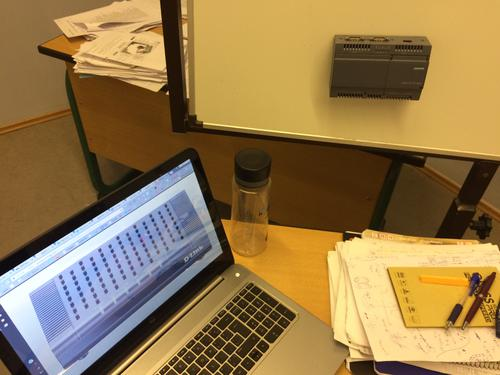iot2000: (328, 33, 432, 101)
